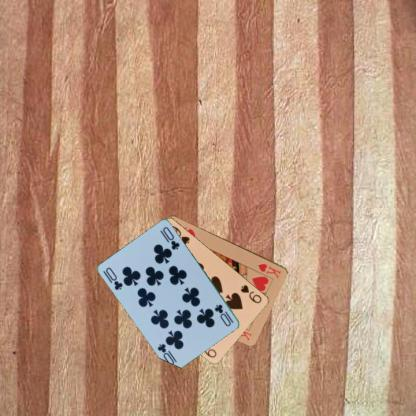10c: (212, 302, 235, 328), (104, 265, 125, 291)
9s: (238, 282, 264, 304)
Kh: (256, 260, 283, 280)
